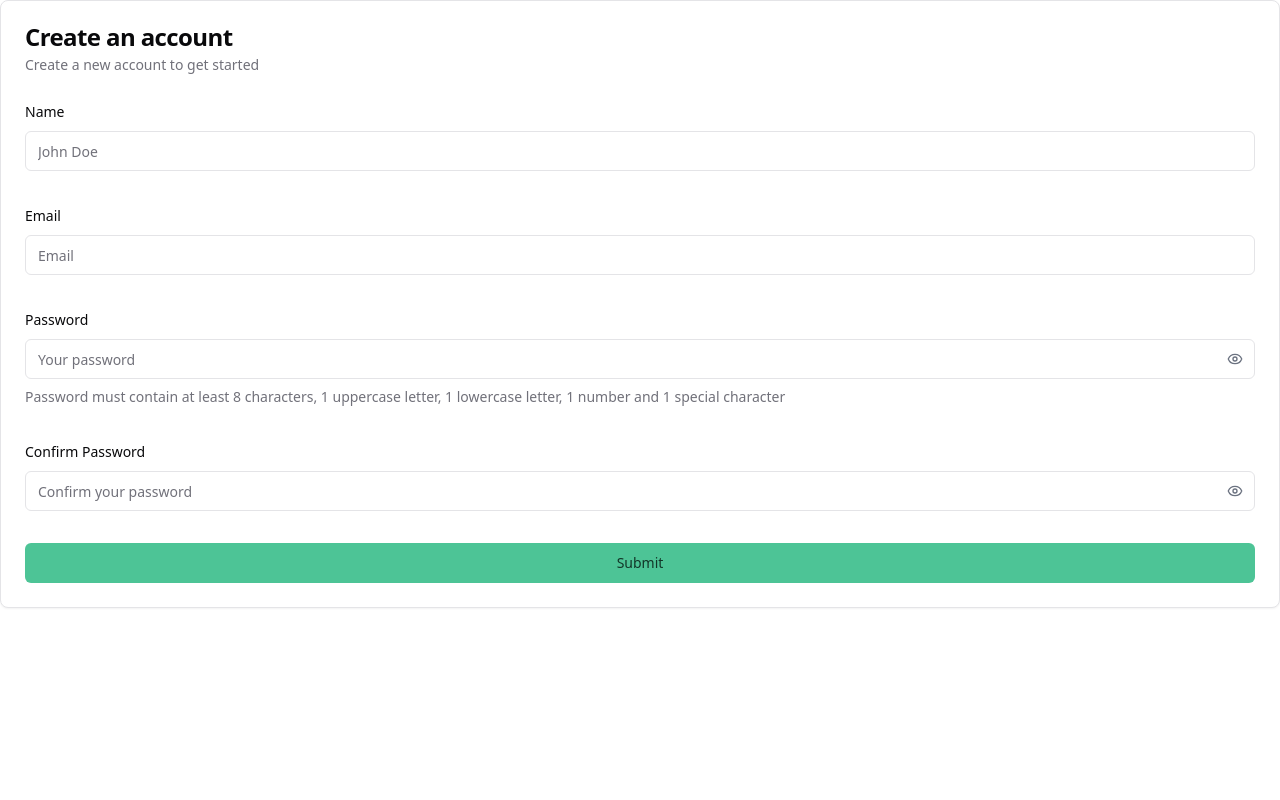
it: RegisterForm › displays validation errors for invalid inputs
This screenshot has width=1280, height=800.
Soumettre le formulaire vide
Step 1. Click the button "Submit" → (640, 563), box [25,543,1255,583]
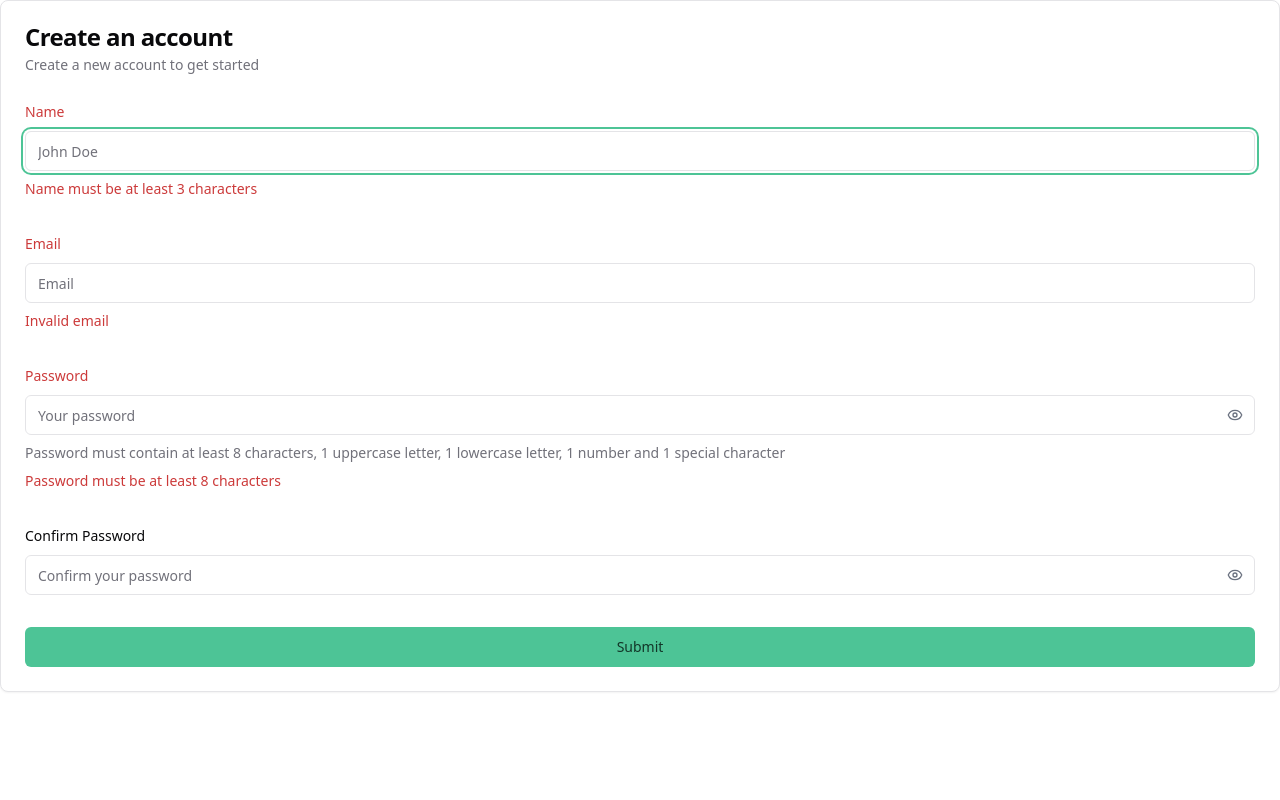
Check: the text "Name must be at least 3 characters" is shown, box [25,179,257,198]
Check: the text "Invalid email" is shown, box [25,311,109,330]
Check: the text "Password must be at least 8 characters" is shown, box [25,471,281,490]
